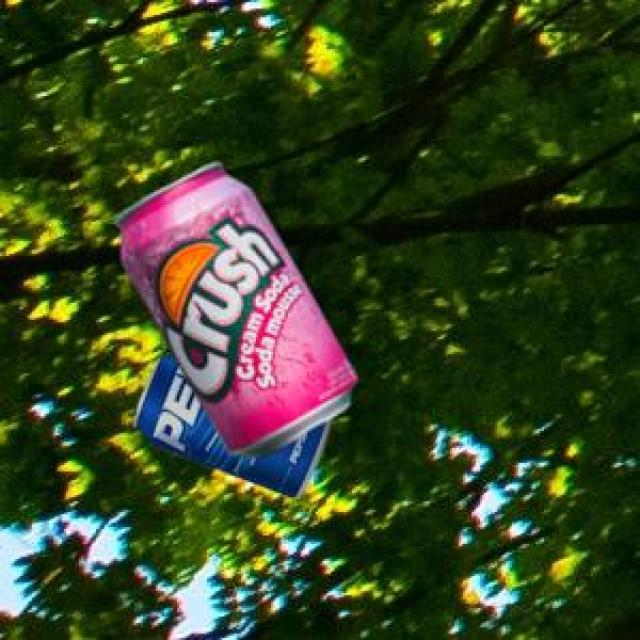Can: (112, 159, 355, 455), (131, 353, 327, 494)
